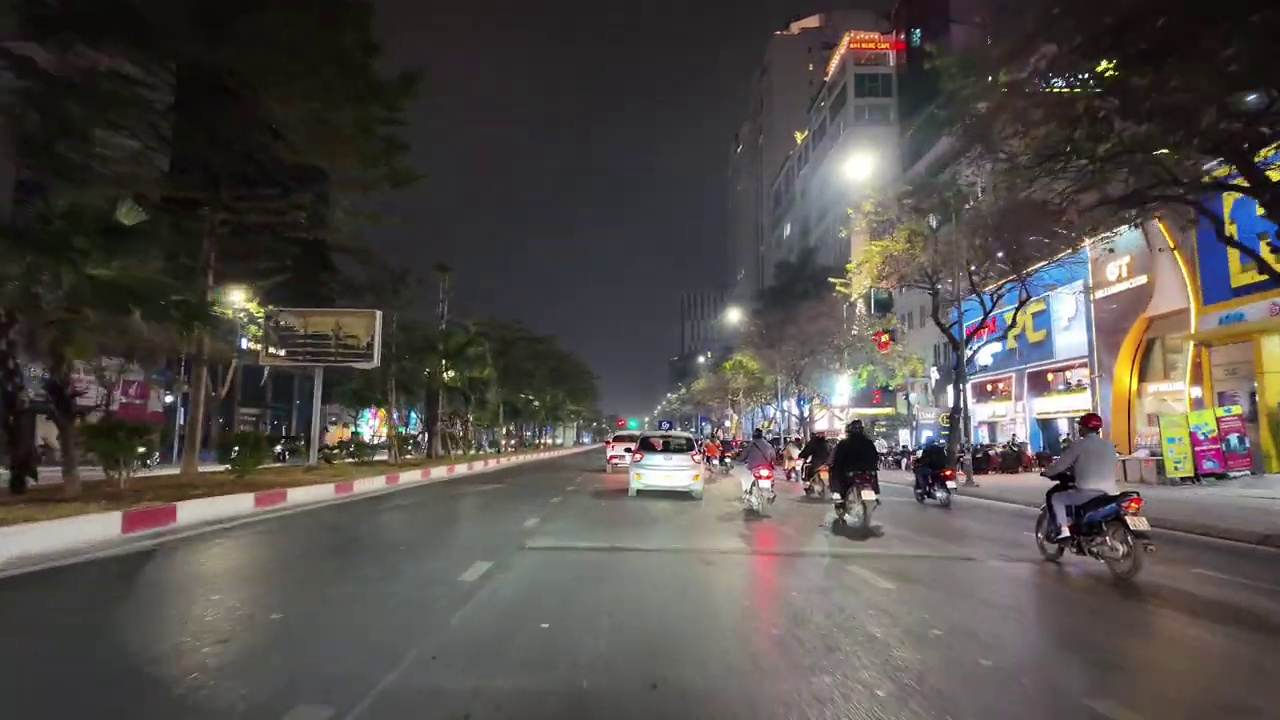acesa: (840, 148, 877, 184), (222, 285, 258, 316), (720, 303, 749, 330)
